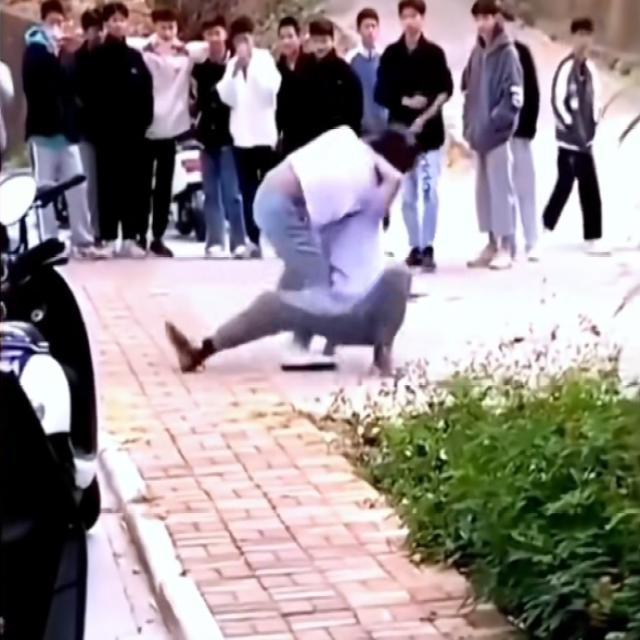fight: (254, 123, 420, 375)
nofight: (8, 2, 100, 264), (460, 8, 525, 274), (553, 19, 619, 269), (134, 12, 198, 258), (218, 14, 282, 252)
